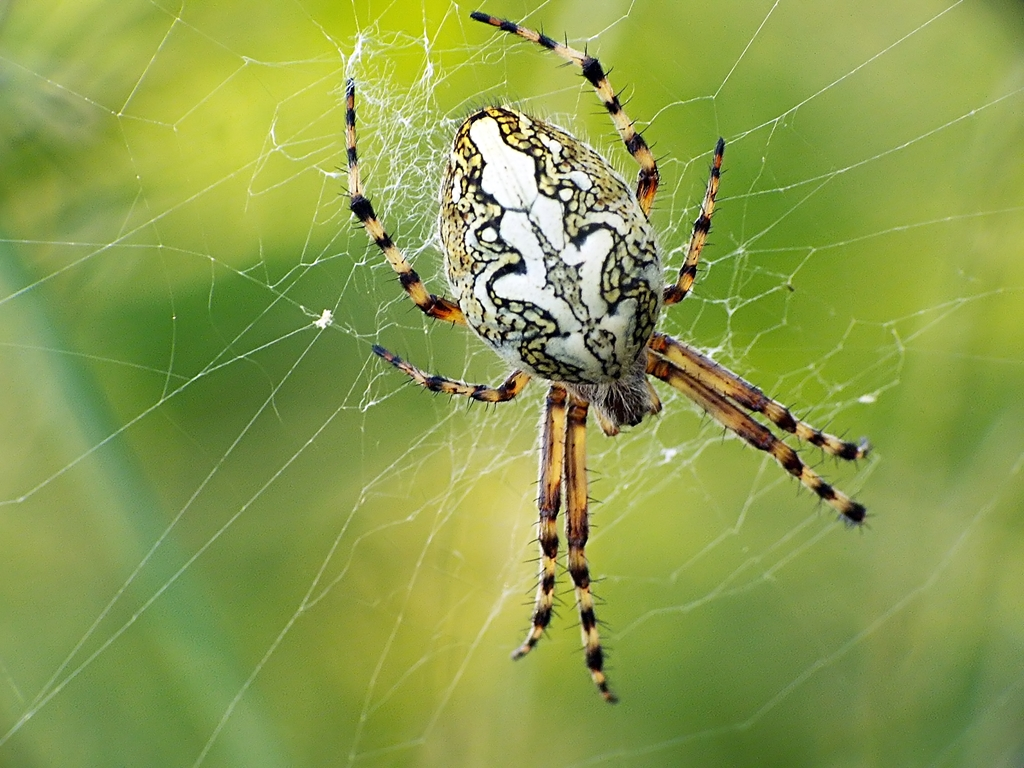spider: (249, 10, 910, 729)
